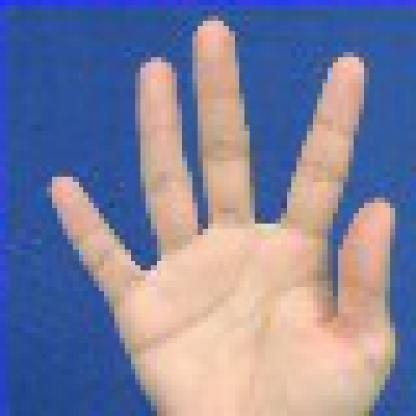five: (36, 5, 411, 411)
